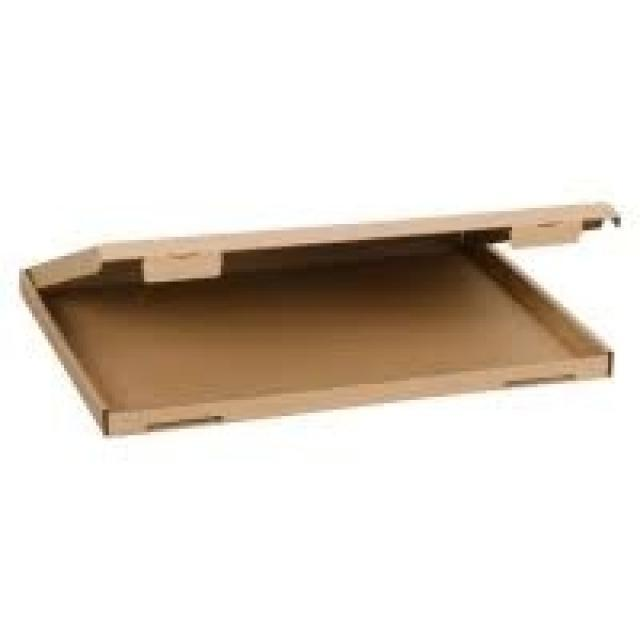cardboard paper: (19, 203, 617, 433)
